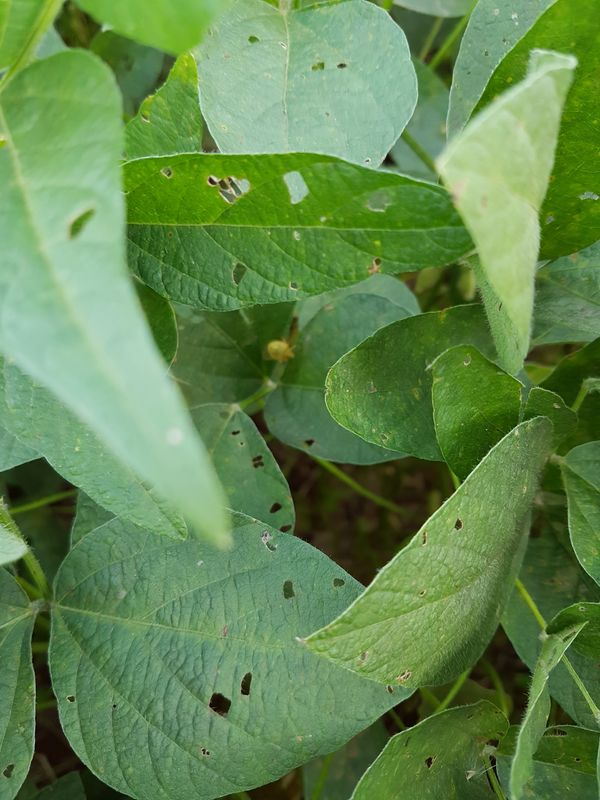Euschistus_heros_ninfa: (258, 332, 302, 370)
